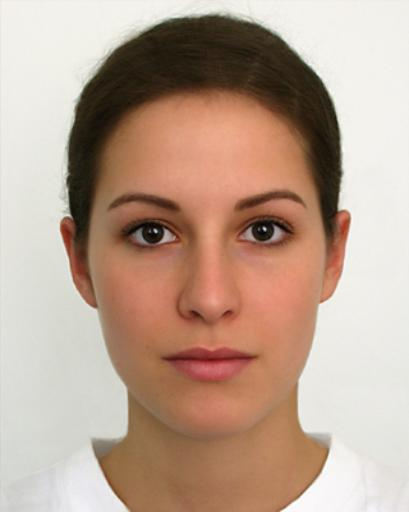left_eye: (236, 218, 297, 251)
left_lip_corner: (247, 349, 264, 368)
right_eye: (121, 221, 183, 255)
right_lip_corner: (158, 351, 175, 369)
